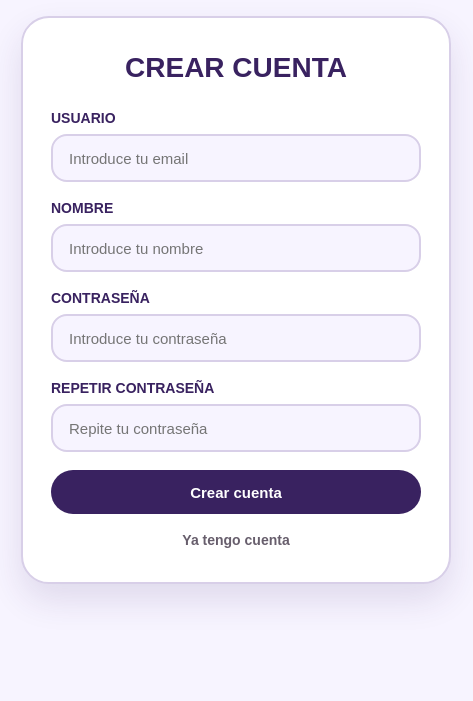
Test: RegisterView › muestra error si el nombre no es válido
Type "test@test.com" into the field with placeholder "Introduce tu email".
click(236, 158); type("test@test.com")  # box [51,134,421,182]
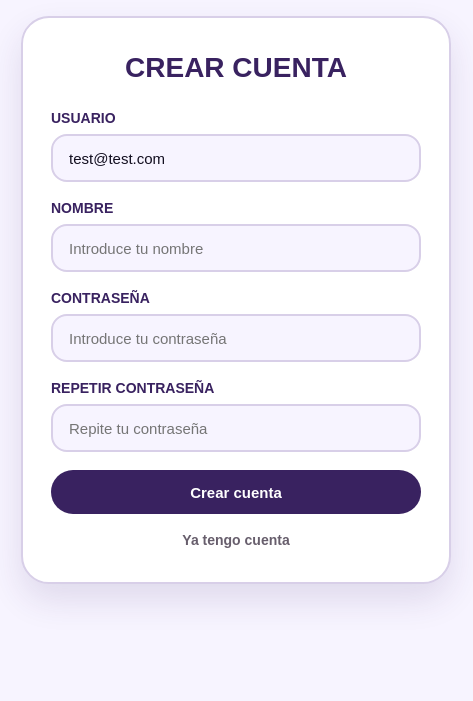
Type "A1" into the field with placeholder "Introduce tu nombre".
click(236, 248); type("A1")  # box [51,224,421,272]
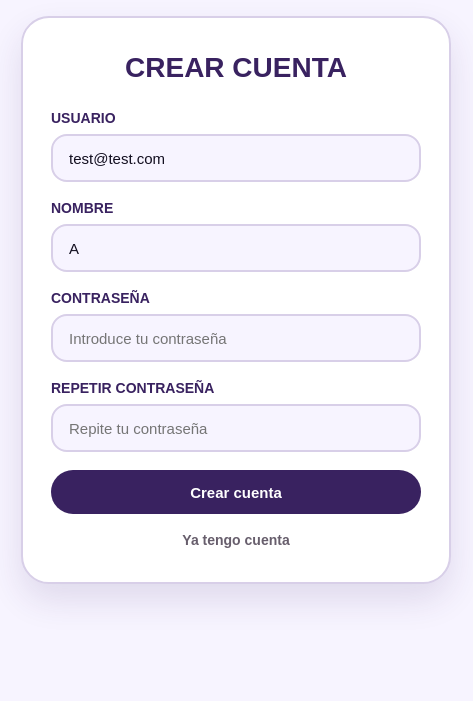
Type "123456" into the password field with placeholder "Introduce tu contraseña".
click(236, 338); type("123456")  # box [51,314,421,362]
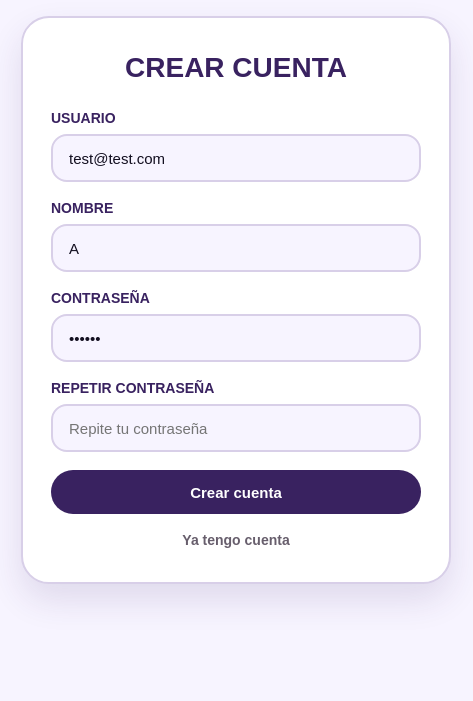
Type "123456" into the password field with placeholder "Repite tu contraseña".
click(236, 428); type("123456")  # box [51,404,421,452]
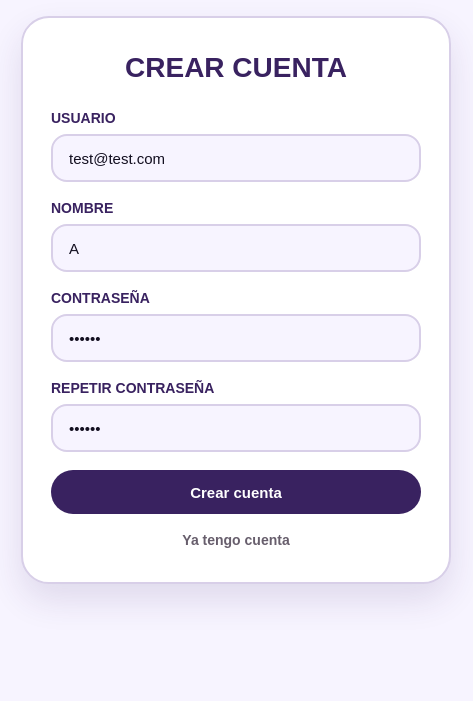
Submit the form, box [51,110,421,548]
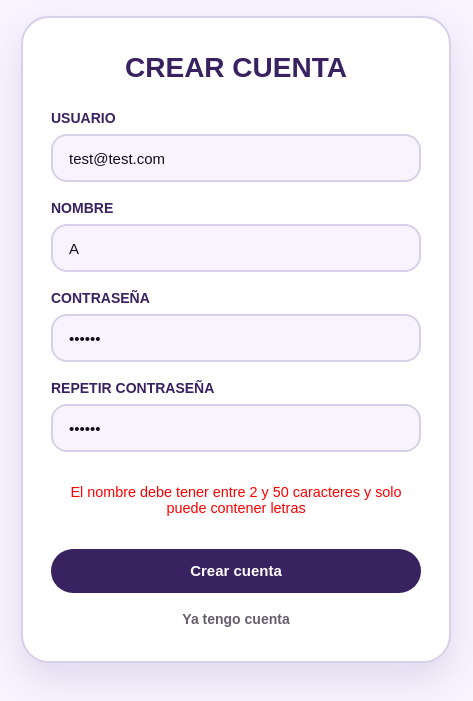
Check: the text "El nombre debe tener entre 2 y 50 caracteres" is shown, box [70,484,402,516]
